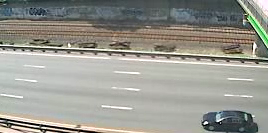car: (199, 108, 258, 132)
